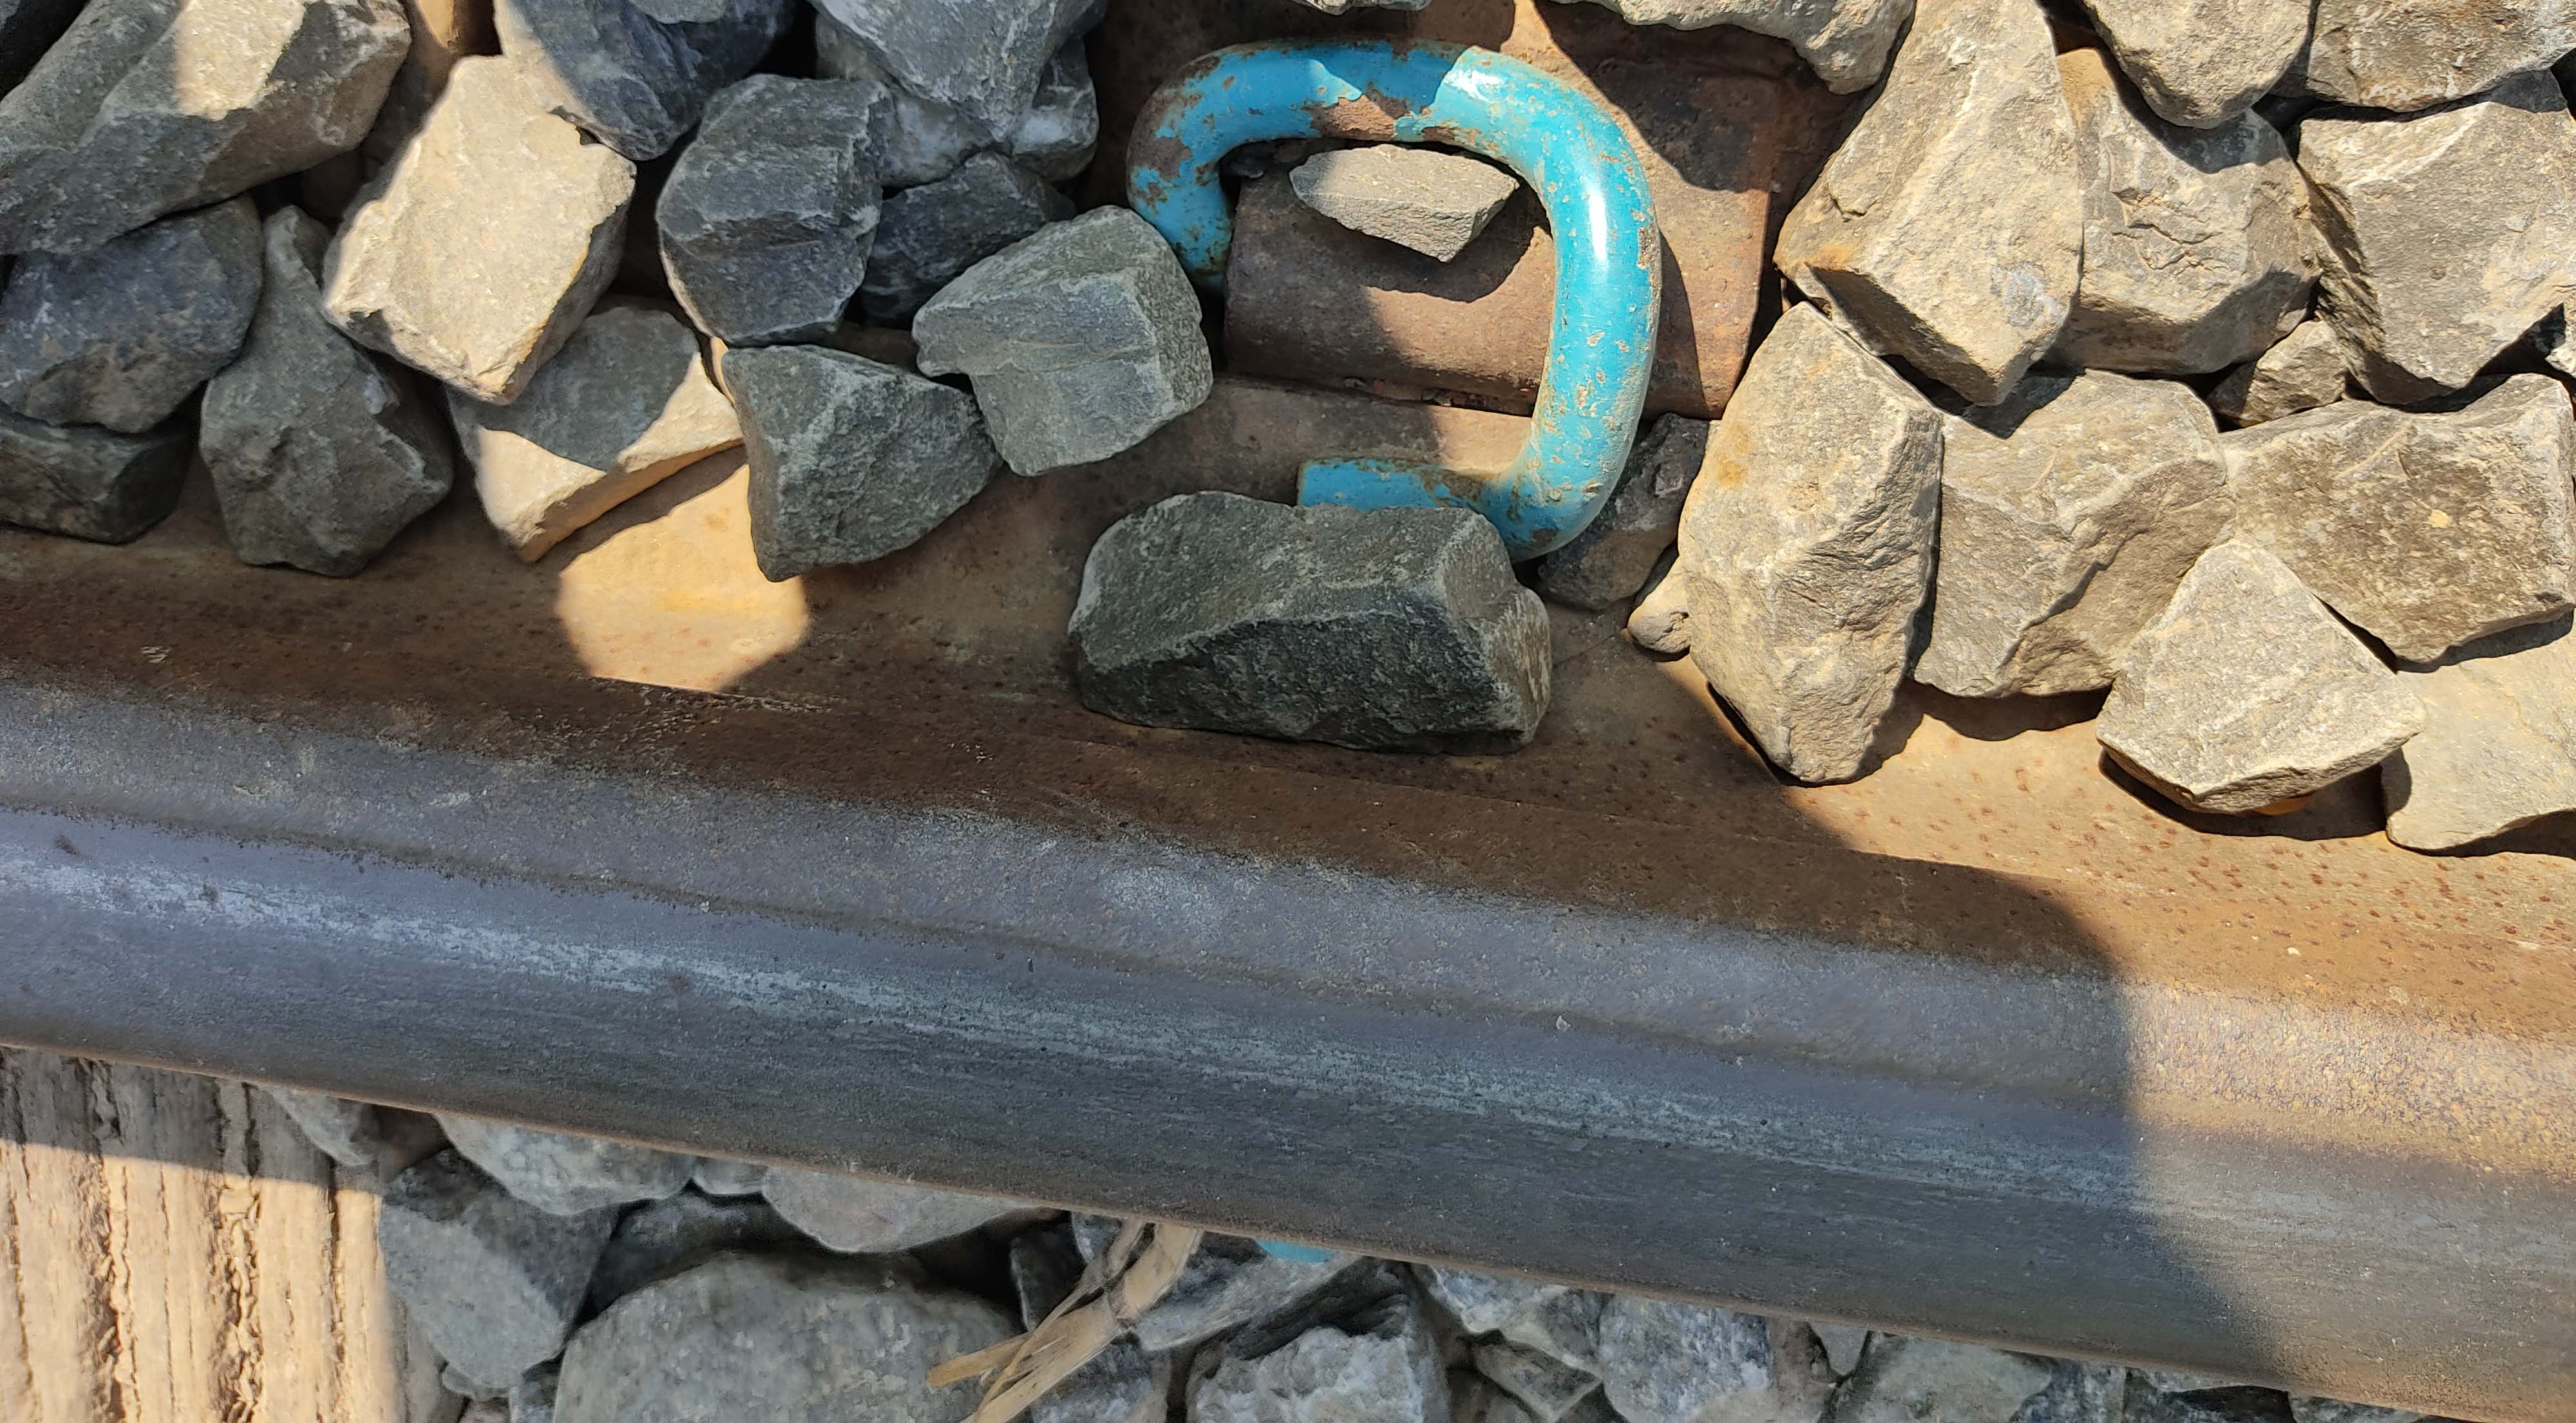error1: (1076, 58, 1707, 589)
